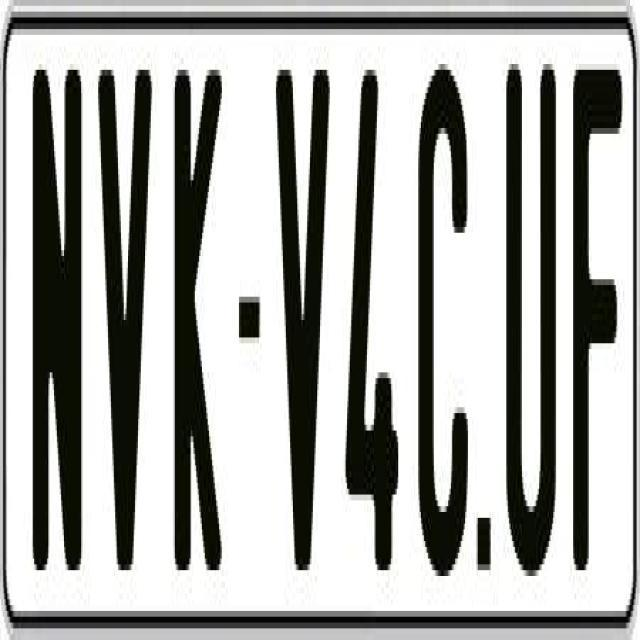4: (343, 64, 398, 570)
C: (418, 70, 468, 576)
F: (572, 70, 616, 606)
K: (174, 58, 223, 582)
N: (30, 58, 87, 582)
U: (504, 58, 558, 582)
V: (273, 52, 334, 570), (96, 52, 150, 582)
